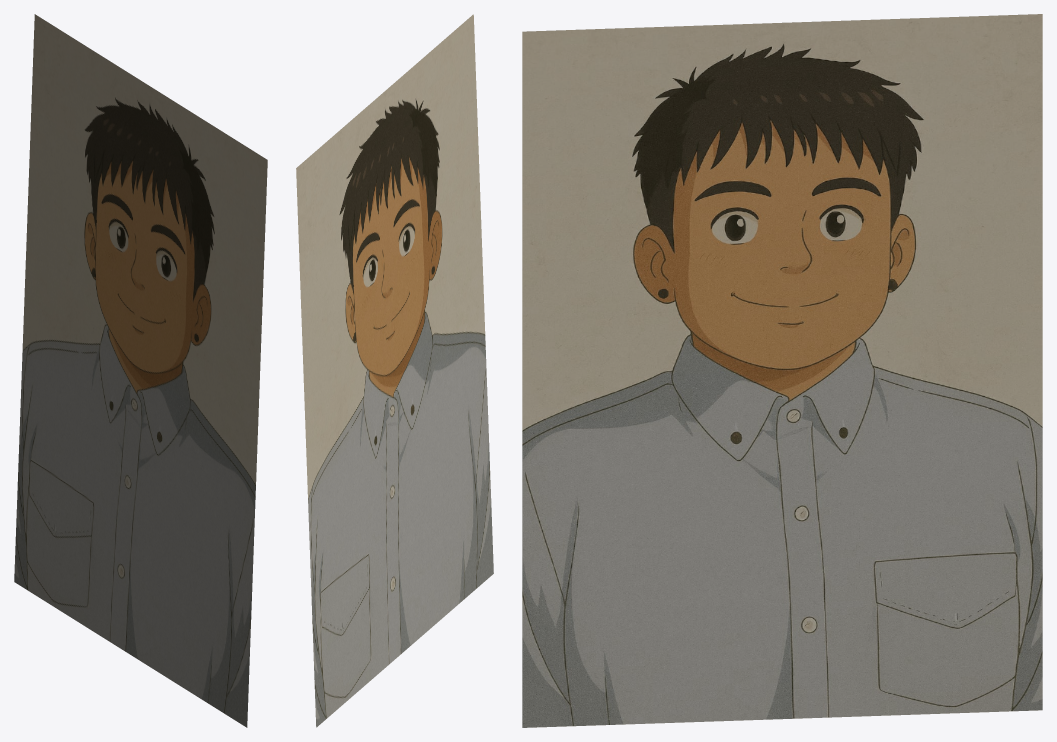
File: card.glb
3 renders of one model, left to right at view 1: azimuth 30°, elevation 25°; view 2: azimuth 150°, elevation 25°; view 3: azimuth 270°, elevation 25°, orthographic. The views are drawn at different scales.
Visible parts, largest first — view 1: desarrollador; view 2: desarrollador; view 3: desarrollador.
Boxes of the visible parts, x1,y1,x2,y2 form: desarrollador: (14,14,267,727); desarrollador: (296,14,493,727); desarrollador: (522,14,1042,727).
Bounding box in the file's own units: 0.0251 × 0.2887 × 0.1918.
1 material, 1 textured.
